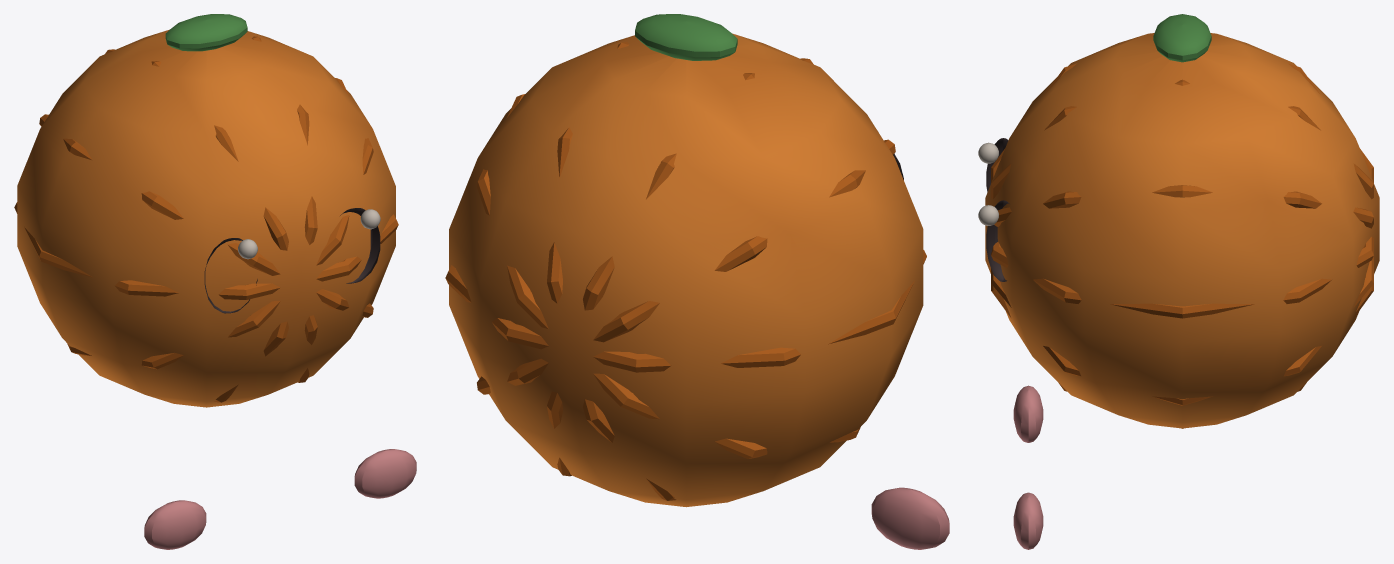
The model's file is pbe554a94.glb.
3 views of the same model, side by side, from view 1: azimuth 30°, elevation 25°; view 2: azimuth 150°, elevation 25°; view 3: azimuth 270°, elevation 25° (orthographic). The views are drawn at different scales.
Parts seen in each view (by area): view 1: pet_pbe554a94; view 2: pet_pbe554a94; view 3: pet_pbe554a94.
Part boxes in pixels (x1,y1,x2,y2): pet_pbe554a94: (14, 14, 416, 549); pet_pbe554a94: (445, 14, 949, 549); pet_pbe554a94: (978, 14, 1379, 549).
Size of the model in its own units: 0.3821 by 0.4892 by 0.381.
